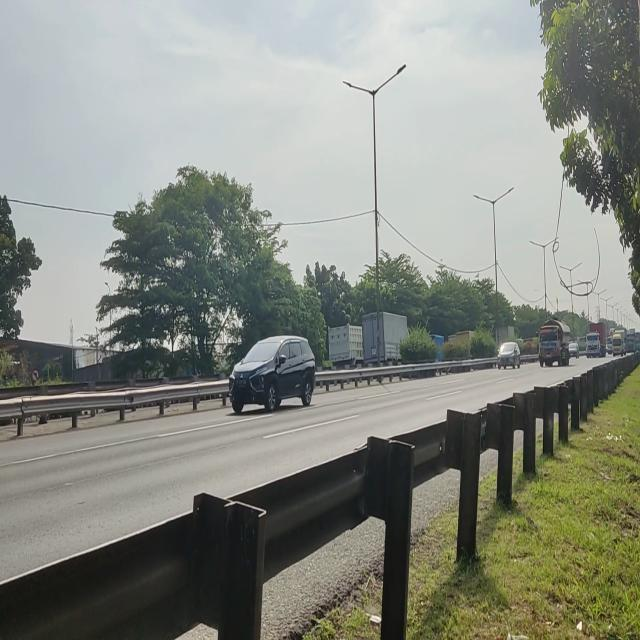Golongan I: (222, 321, 319, 421)
